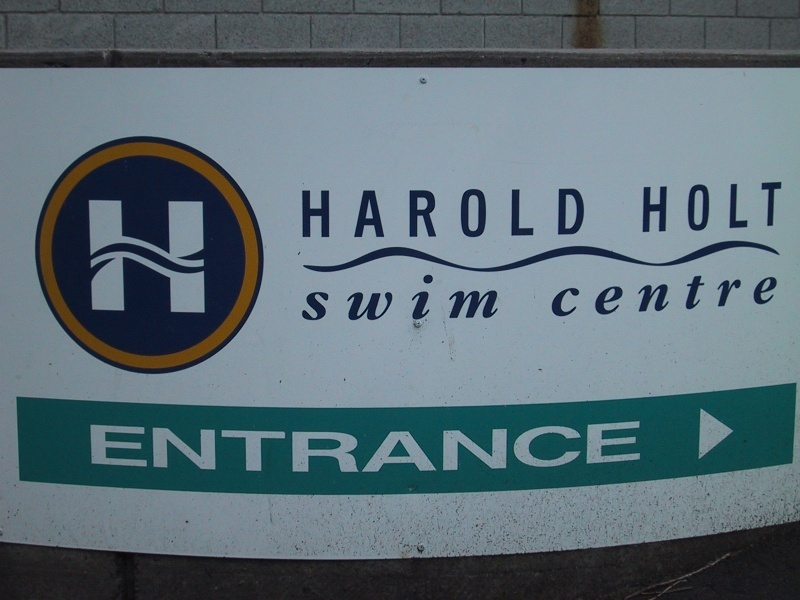text: (193, 199, 209, 314), (97, 199, 112, 314), (113, 199, 128, 314), (129, 199, 144, 314), (145, 199, 160, 314), (161, 199, 176, 314), (177, 199, 192, 314), (87, 199, 96, 314), (657, 181, 672, 235), (673, 181, 688, 235), (689, 181, 704, 235), (705, 181, 720, 235), (721, 181, 736, 235), (737, 181, 752, 235), (753, 181, 768, 235), (769, 181, 784, 235), (561, 268, 576, 320), (577, 268, 592, 320), (593, 268, 608, 320), (609, 268, 624, 320), (625, 268, 640, 320), (641, 268, 656, 320), (657, 268, 672, 320), (673, 268, 688, 320), (689, 268, 704, 320), (705, 268, 720, 320), (721, 268, 736, 320), (737, 268, 752, 320), (753, 268, 768, 320), (769, 268, 784, 320), (305, 187, 320, 238), (321, 187, 336, 238), (337, 187, 352, 238), (353, 187, 368, 238), (369, 187, 384, 238), (385, 187, 400, 238), (401, 187, 416, 238), (417, 187, 432, 238), (433, 187, 448, 238), (449, 187, 464, 238), (465, 187, 480, 238), (481, 187, 496, 238), (497, 187, 512, 238), (513, 187, 528, 238), (529, 187, 544, 238), (545, 187, 560, 238), (561, 187, 576, 238), (97, 422, 112, 473), (113, 422, 128, 473), (129, 422, 144, 473), (145, 422, 160, 473), (161, 422, 176, 473), (177, 422, 192, 473), (193, 422, 208, 473), (209, 422, 224, 473), (225, 422, 240, 473), (241, 422, 256, 473), (257, 422, 272, 473), (273, 422, 288, 473), (289, 422, 304, 473), (305, 422, 320, 473), (321, 422, 336, 473), (337, 422, 352, 473), (353, 422, 368, 473), (369, 422, 384, 473), (385, 422, 400, 473), (401, 422, 416, 473), (417, 422, 432, 473), (433, 422, 448, 473), (449, 422, 464, 473), (465, 422, 480, 473), (481, 422, 496, 473), (497, 422, 512, 473), (513, 422, 528, 473), (529, 422, 544, 473), (545, 422, 560, 473), (561, 422, 576, 473), (577, 422, 592, 473), (593, 422, 608, 473), (609, 422, 624, 473), (625, 422, 640, 473), (321, 274, 336, 324), (337, 274, 352, 324), (353, 274, 368, 324), (369, 274, 384, 324), (385, 274, 400, 324), (401, 274, 416, 324), (417, 274, 432, 324), (433, 274, 448, 324), (449, 274, 464, 324), (465, 274, 480, 324), (481, 274, 496, 324), (643, 181, 656, 235), (577, 187, 587, 238), (310, 274, 320, 324), (89, 422, 96, 473), (299, 187, 304, 238), (497, 274, 500, 324), (559, 268, 560, 320), (785, 268, 786, 320), (641, 422, 642, 473)
